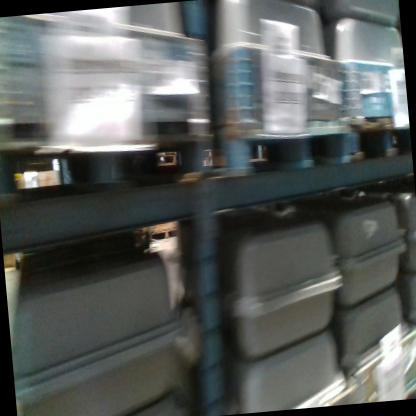pallet: (0, 127, 211, 199), (207, 122, 354, 178), (344, 116, 413, 166), (148, 224, 179, 242), (158, 152, 177, 166)
